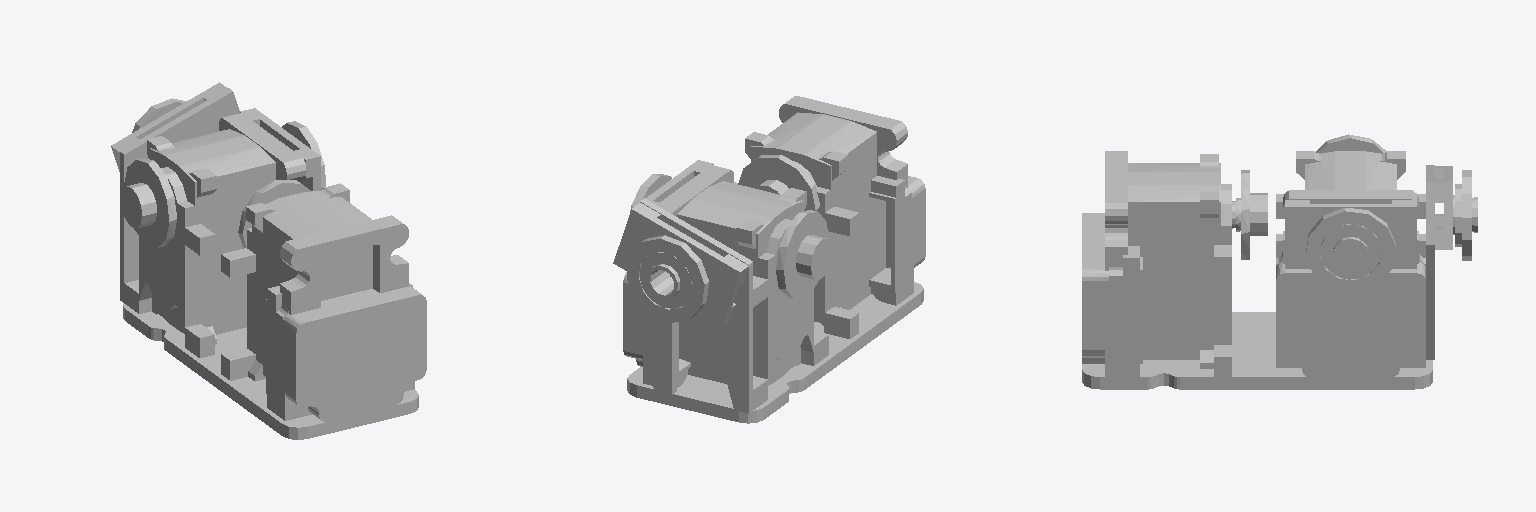
Rendered from Dual_Servo_Al_022__1__1_mesh.obj.
The picture shows the model from 3 angles: view 1: azimuth 30°, elevation 25°; view 2: azimuth 150°, elevation 25°; view 3: azimuth 270°, elevation 25°; orthographic projection.
Parts seen in each view (by area): view 1: Body16, Body2, Body14, Body11, Body20, Body1, Body6, Body12, Body13, Body10, Body21; view 2: Body14, Body2, Body11, Body20, Body12, Body1, Body21, Body13, Body16, Body5, Body22, Body6; view 3: Body14, Body5, Body11, Body2, Body6, Body16, Body10, Body13, Body20, Body12, Body4, Body21 (+1 smaller).
Part boxes in pixels (x1,y1,x2,y2): Body16: (283,222,426,421); Body2: (124,114,302,357); Body14: (221,183,412,418); Body11: (123,304,418,439); Body20: (120,88,239,302); Body1: (121,158,176,247); Body6: (240,108,320,190); Body12: (111,82,227,171); Body13: (238,180,310,248); Body10: (282,121,325,189); Body21: (132,98,186,132); Body14: (734,97,911,338); Body2: (647,166,828,409); Body11: (627,282,923,423); Body20: (632,198,752,413); Body12: (613,203,748,326); Body1: (776,210,831,298); Body21: (626,235,708,322); Body13: (738,155,819,211); Body16: (794,96,925,293); Body5: (623,165,713,383); Body22: (640,252,692,308); Body6: (634,160,713,206); Body14: (1109,151,1231,377); Body5: (1276,198,1425,377); Body11: (1082,312,1432,389); Body2: (1276,151,1425,266); Body6: (1285,200,1416,271); Body16: (1082,151,1108,377); Body10: (1306,208,1395,292); Body13: (1232,170,1267,259); Body20: (1426,165,1434,359); Body12: (1435,166,1477,249); Body4: (1320,224,1380,279); Body21: (1455,170,1471,260).
Bounding box in the file's own units: 0.0451 × 0.048 × 0.0869.